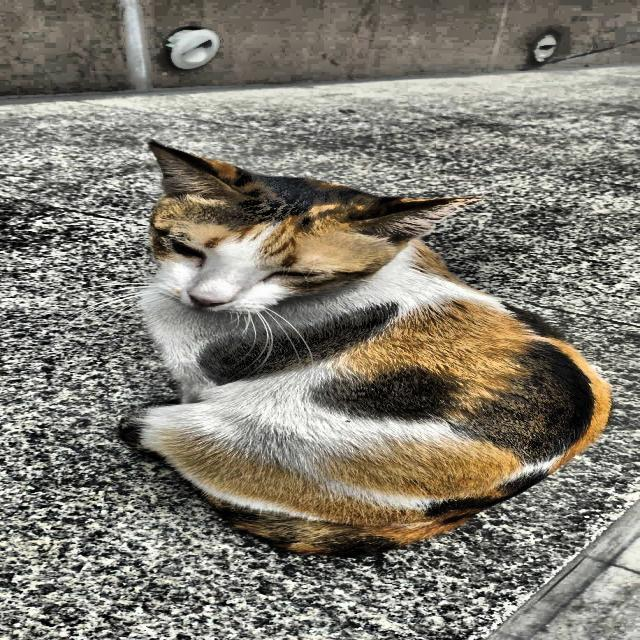Healthy skin: (343, 346, 551, 448), (226, 201, 366, 257)
